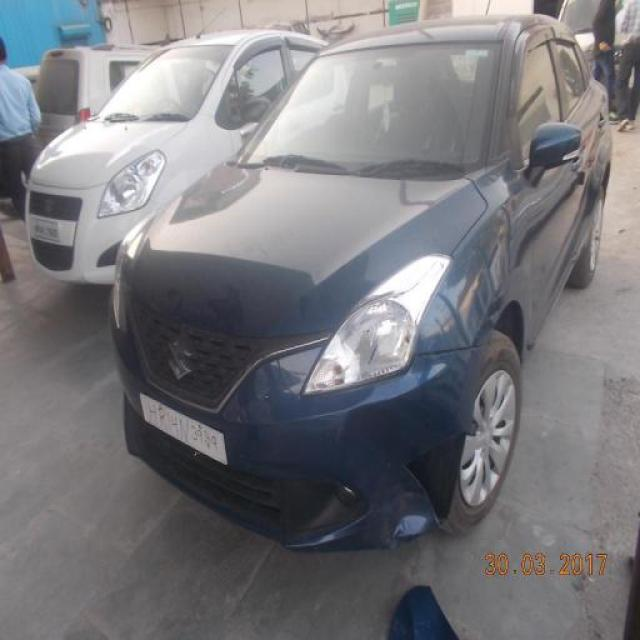dent: (374, 450, 443, 543)
tear: (416, 431, 467, 520)
